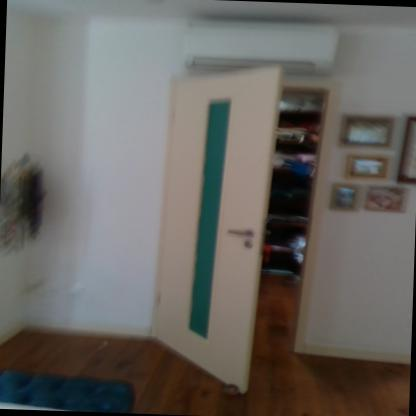semi: (153, 67, 328, 414)
